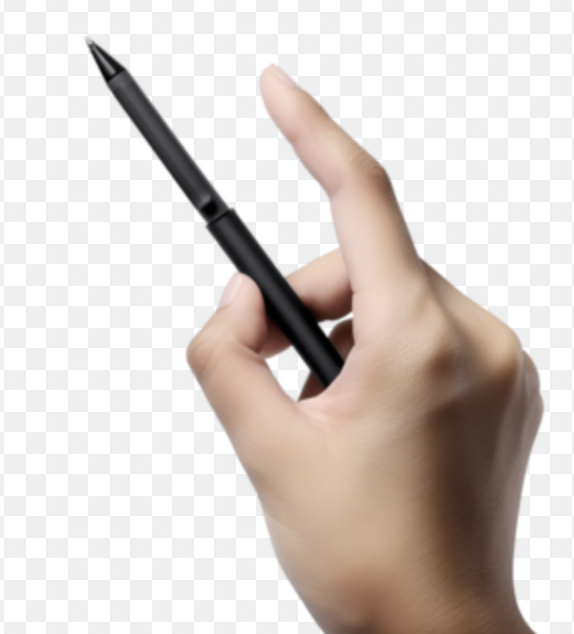pen: (81, 35, 347, 387)
